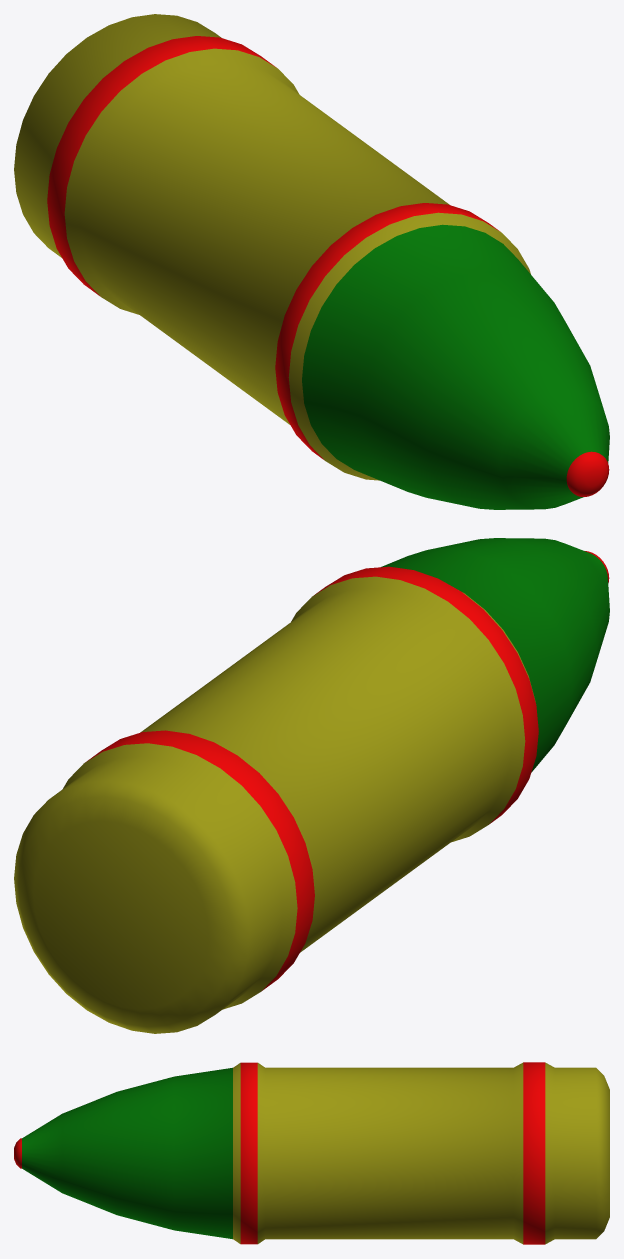
Rendered from projectile.fbx.
The picture shows the model from 3 angles, top to bottom: view 1: azimuth 30°, elevation 25°; view 2: azimuth 150°, elevation 25°; view 3: azimuth 270°, elevation 25°; orthographic projection. The views are drawn at different scales.
Visible parts, largest first — view 1: Cylinder; view 2: Cylinder; view 3: Cylinder.
Boxes of the visible parts, box(x1,y1,x2,y2) form: Cylinder: box(14, 14, 609, 509); Cylinder: box(14, 538, 609, 1033); Cylinder: box(14, 1062, 609, 1244).
Bounding box in the file's own units: 212 × 212 × 694.
